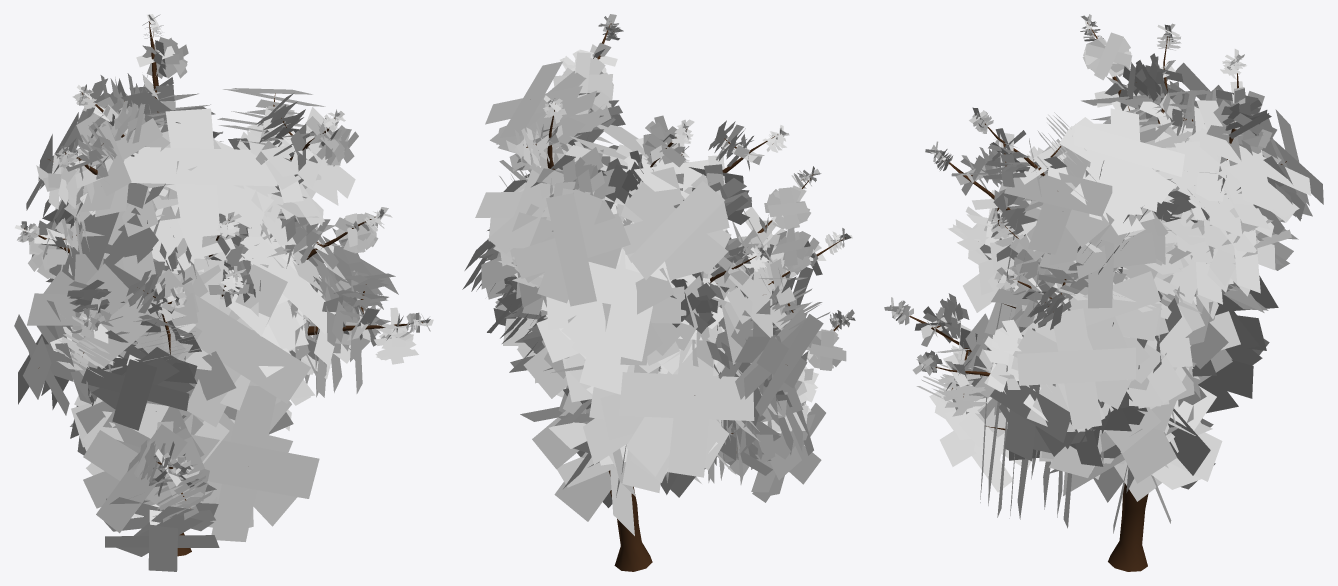
The model's file is koks7mesh.fbx.
3 renders of one model, left to right at view 1: azimuth 30°, elevation 25°; view 2: azimuth 150°, elevation 25°; view 3: azimuth 270°, elevation 25°, orthographic. The views are drawn at different scales.
Visible parts, largest first — view 1: Koks3.003; view 2: Koks3.003; view 3: Koks3.003.
Part boxes in pixels (x1,y1,x2,y2): Koks3.003: [14, 14, 433, 571]; Koks3.003: [462, 14, 855, 571]; Koks3.003: [884, 14, 1323, 571].
Size of the model in its own units: 12.11 by 16.81 by 12.64.
